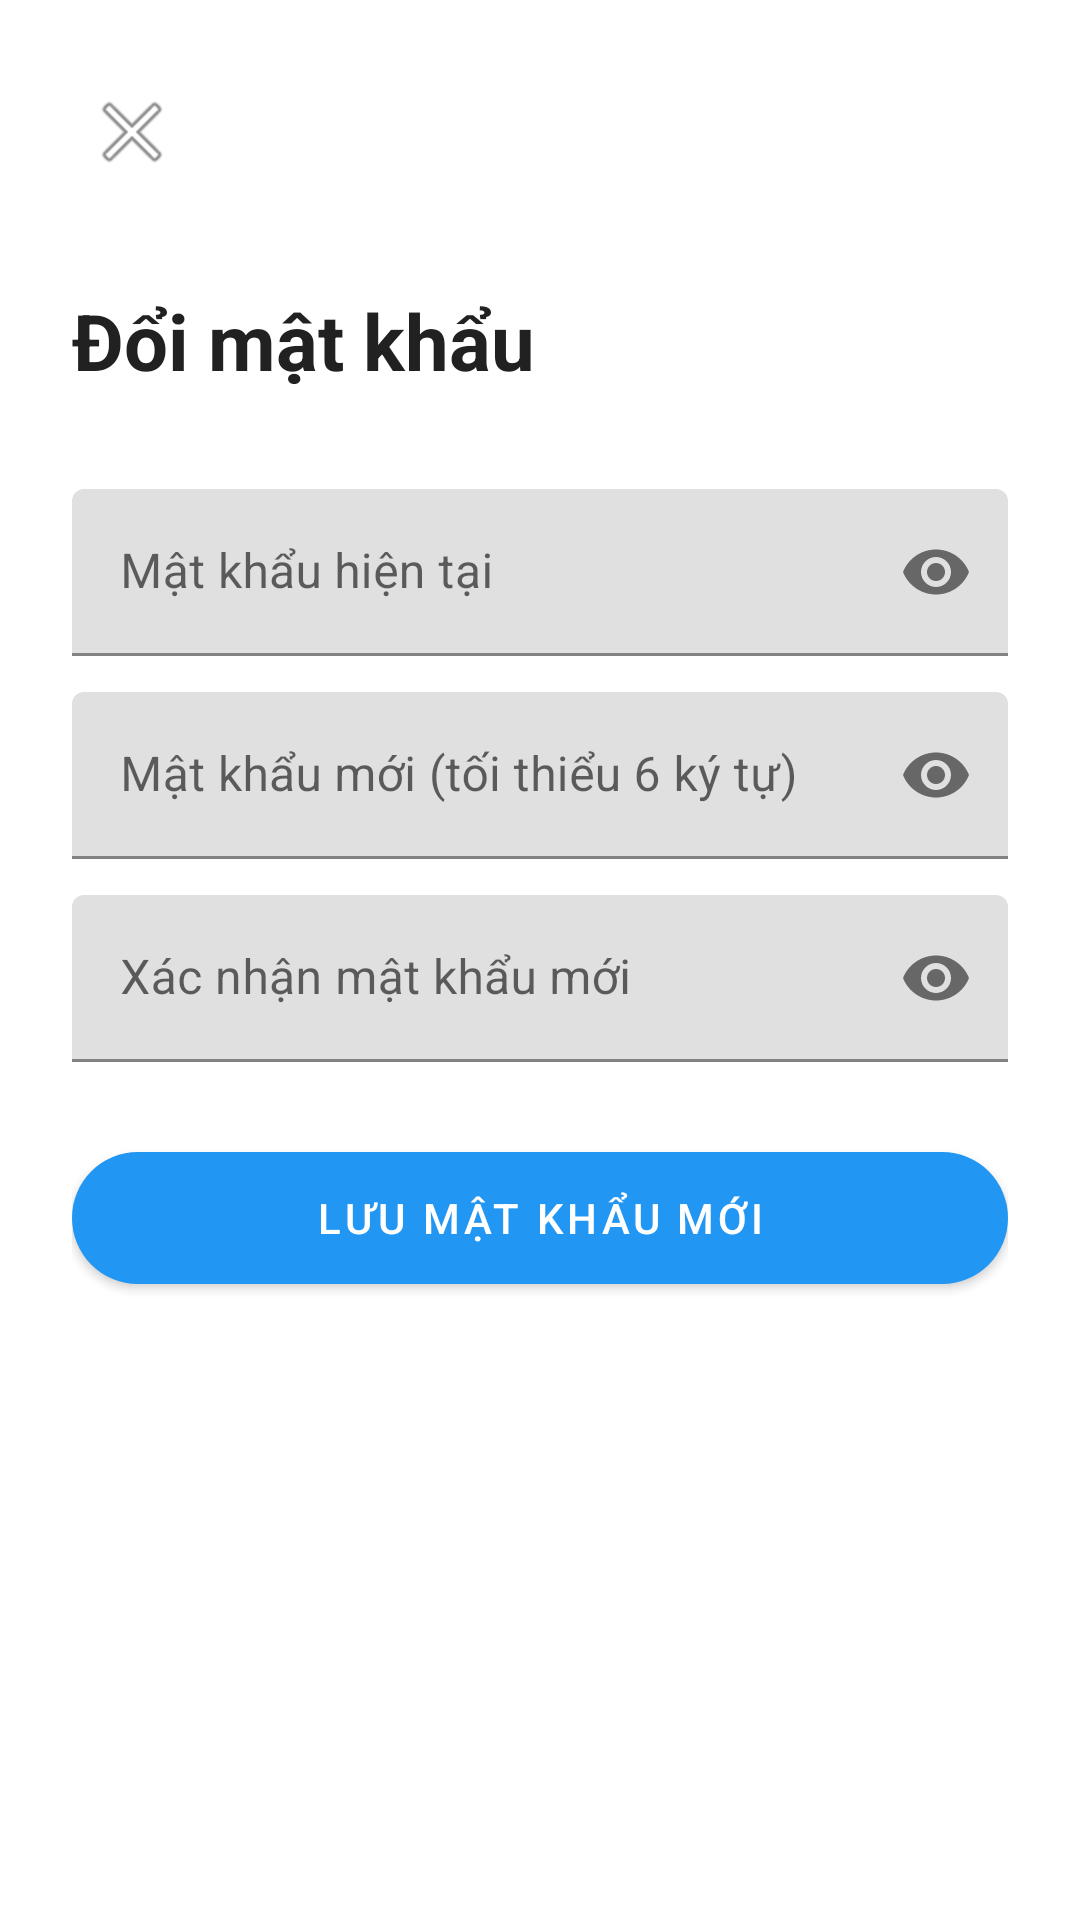

Screen size 1080w x 1920h. Icon name, then its center in pixels as [x,y]:
Quay lại: [132,132]
